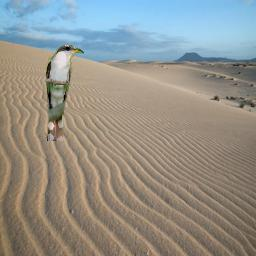Cuckoo: (45, 44, 84, 141)
